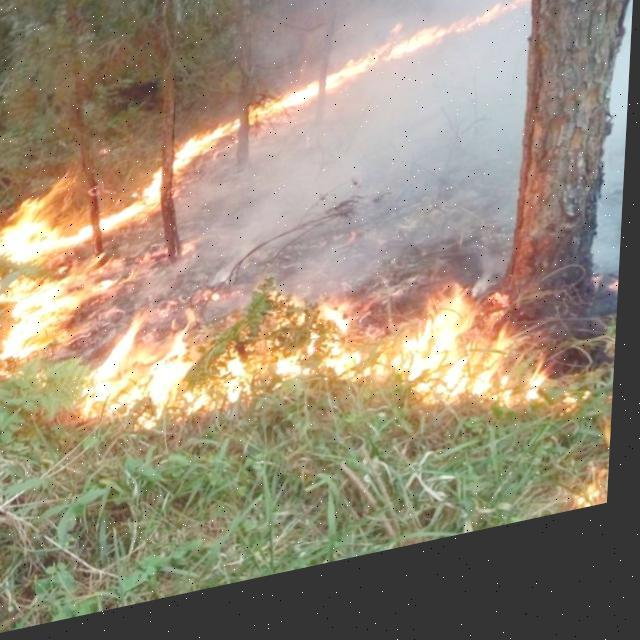Fire: (0, 11, 530, 270), (71, 278, 574, 510), (0, 251, 159, 373)
